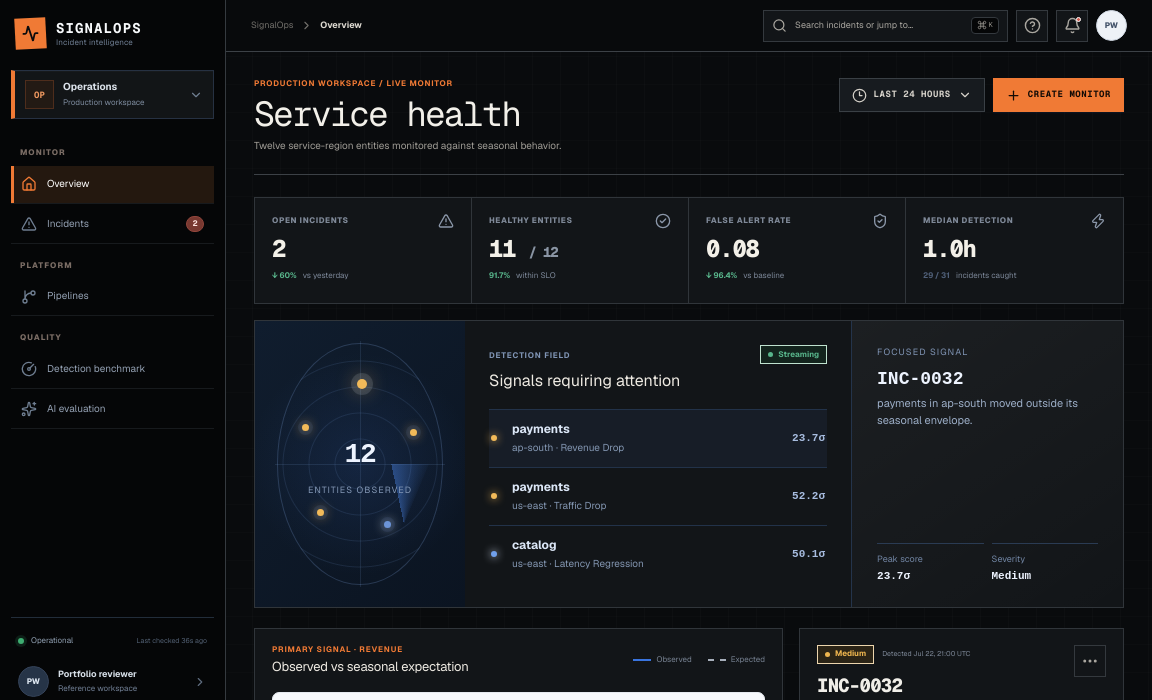
SignalOps command center › opens the command palette and monitor creation workflow
The image size is (1152, 700).
Step 1. Click the button "Search incidents or jump to… K" → click(886, 26), box [763,10,1008,42]
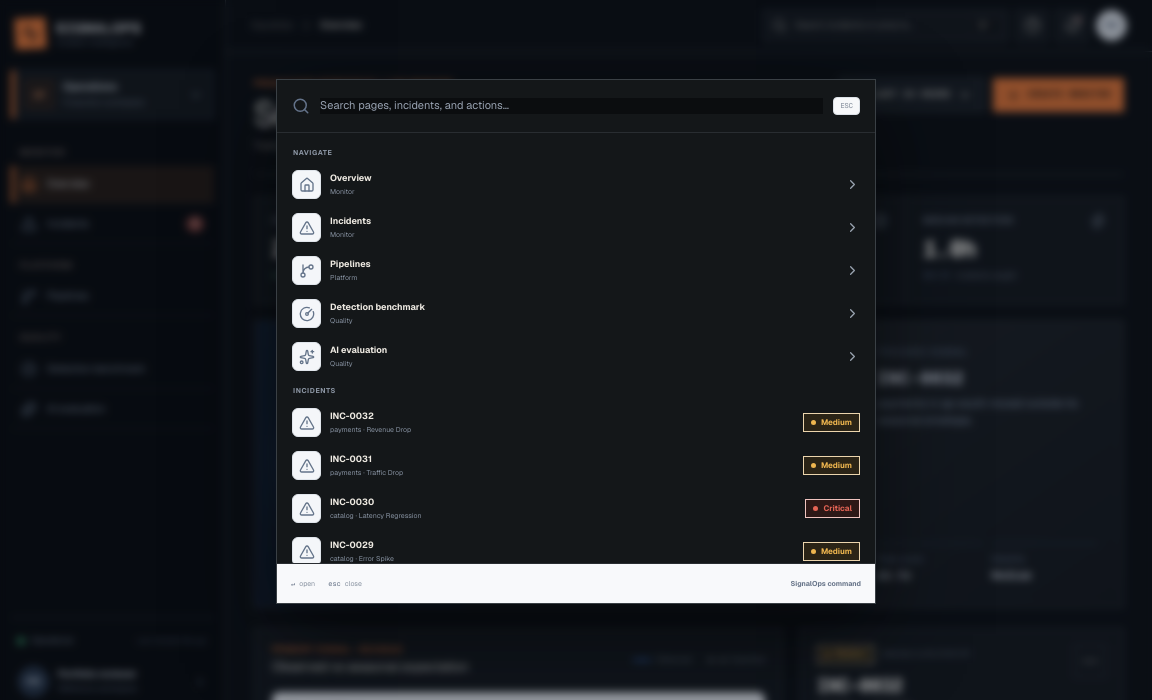
Check: the dialog named "Command menu" is shown, box [276,79,876,604]
Step 2. Press Escape
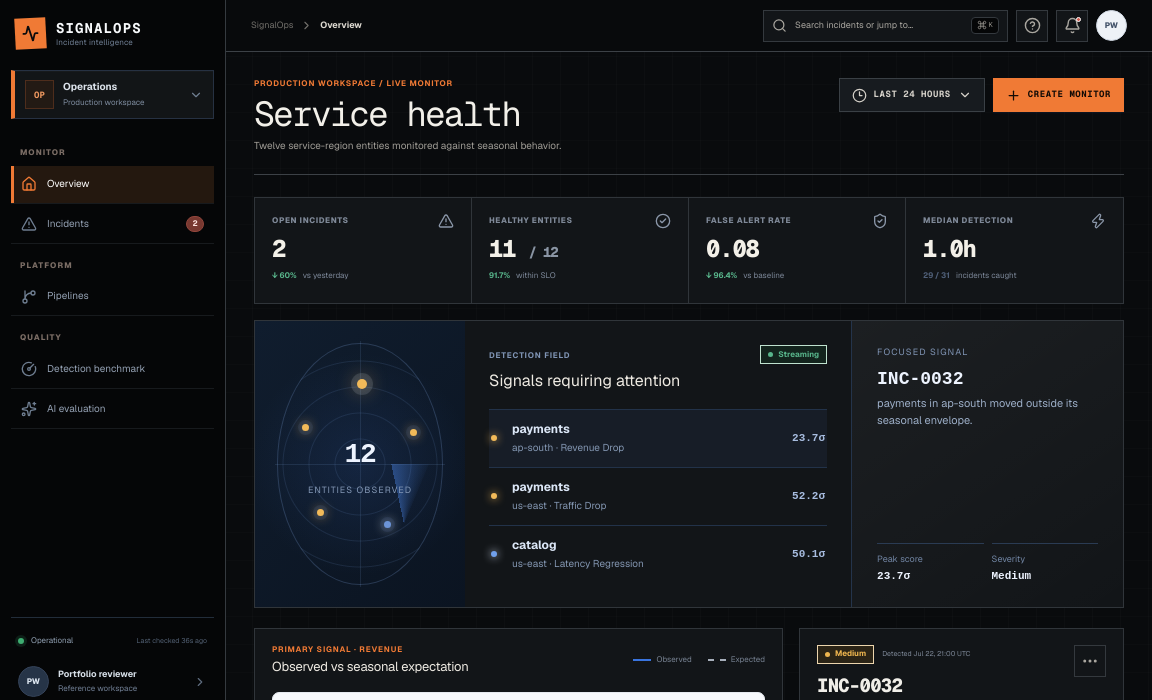
Step 3. Click the button "Create monitor" → click(1058, 95), box [993,78,1124,112]
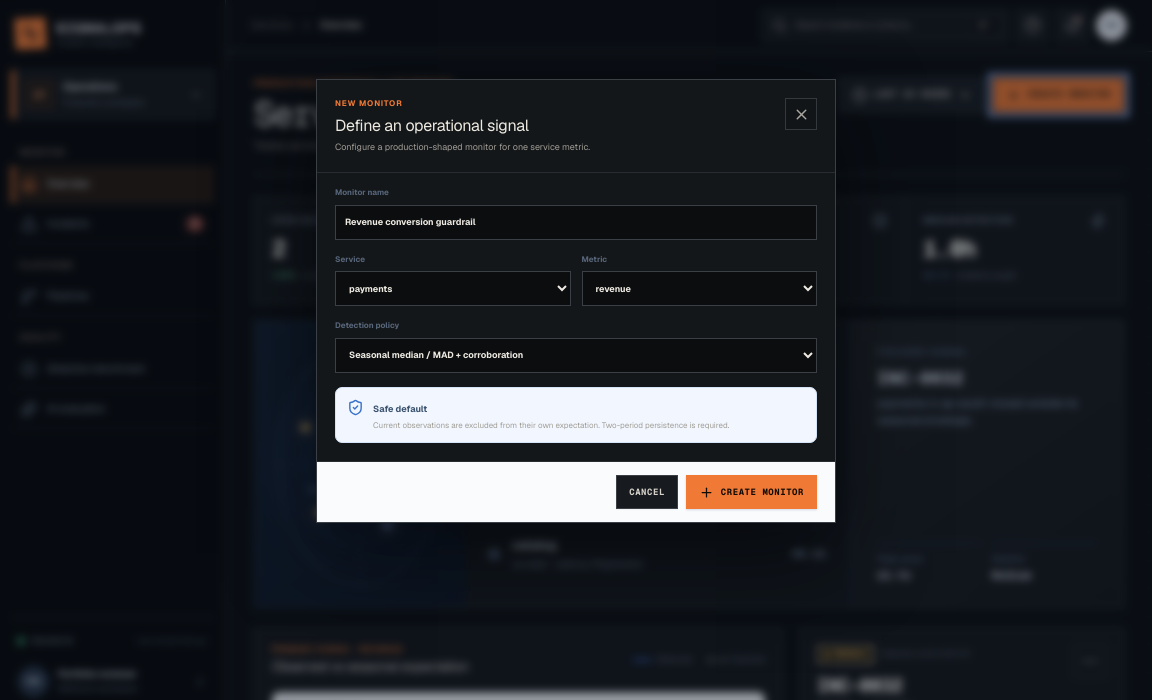
Check: the heading "Define an operational signal" is shown, box [335,115,529,136]
